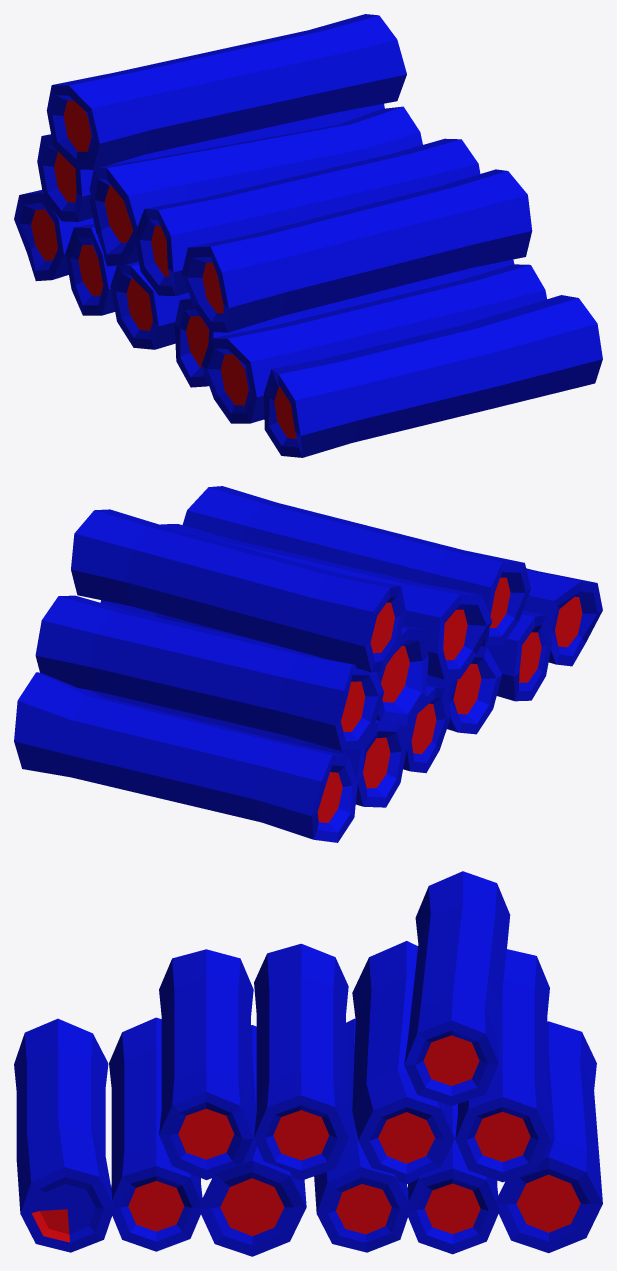
Rendered from SM_Short_LogStack4.fbx.
3 renders of one model, top to bottom at view 1: azimuth 30°, elevation 25°; view 2: azimuth 150°, elevation 25°; view 3: azimuth 270°, elevation 25°, orthographic.
Visible parts, largest first — view 1: SM_Short_LogStack4; view 2: SM_Short_LogStack4; view 3: SM_Short_LogStack4.
Boxes of the visible parts, <box> form: SM_Short_LogStack4: <box>14,14,602,457</box>; SM_Short_LogStack4: <box>14,486,602,842</box>; SM_Short_LogStack4: <box>14,871,602,1256</box>.
Size of the model in its own units: 79.74 by 54.15 by 126.
